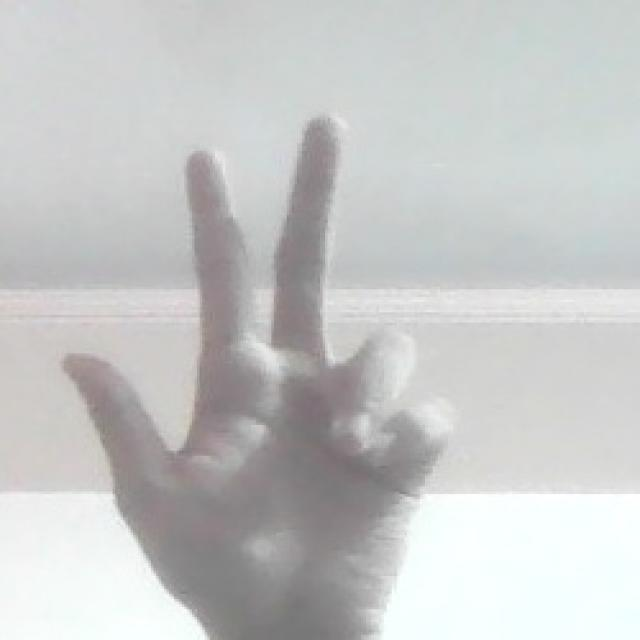Numeric-3: (59, 107, 445, 621)
